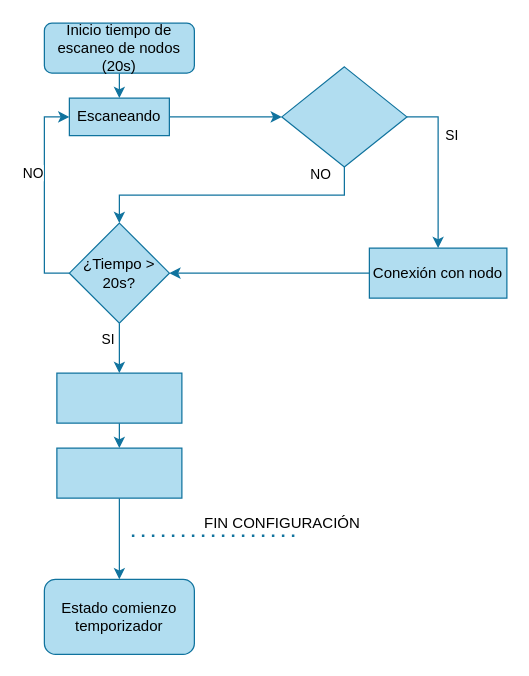
The diagram is 529 pixels wide and 676 high, and some of its shapes have lost their labels. The box of each missing label's shape, as (x1, y1, x2, y2) in pixels:
Desconexión de los nodos: (56, 447, 182, 498)
Envío del tiempo a los nodos conectados: (56, 372, 182, 423)
¿Nodo encontrado?: (281, 66, 407, 167)
